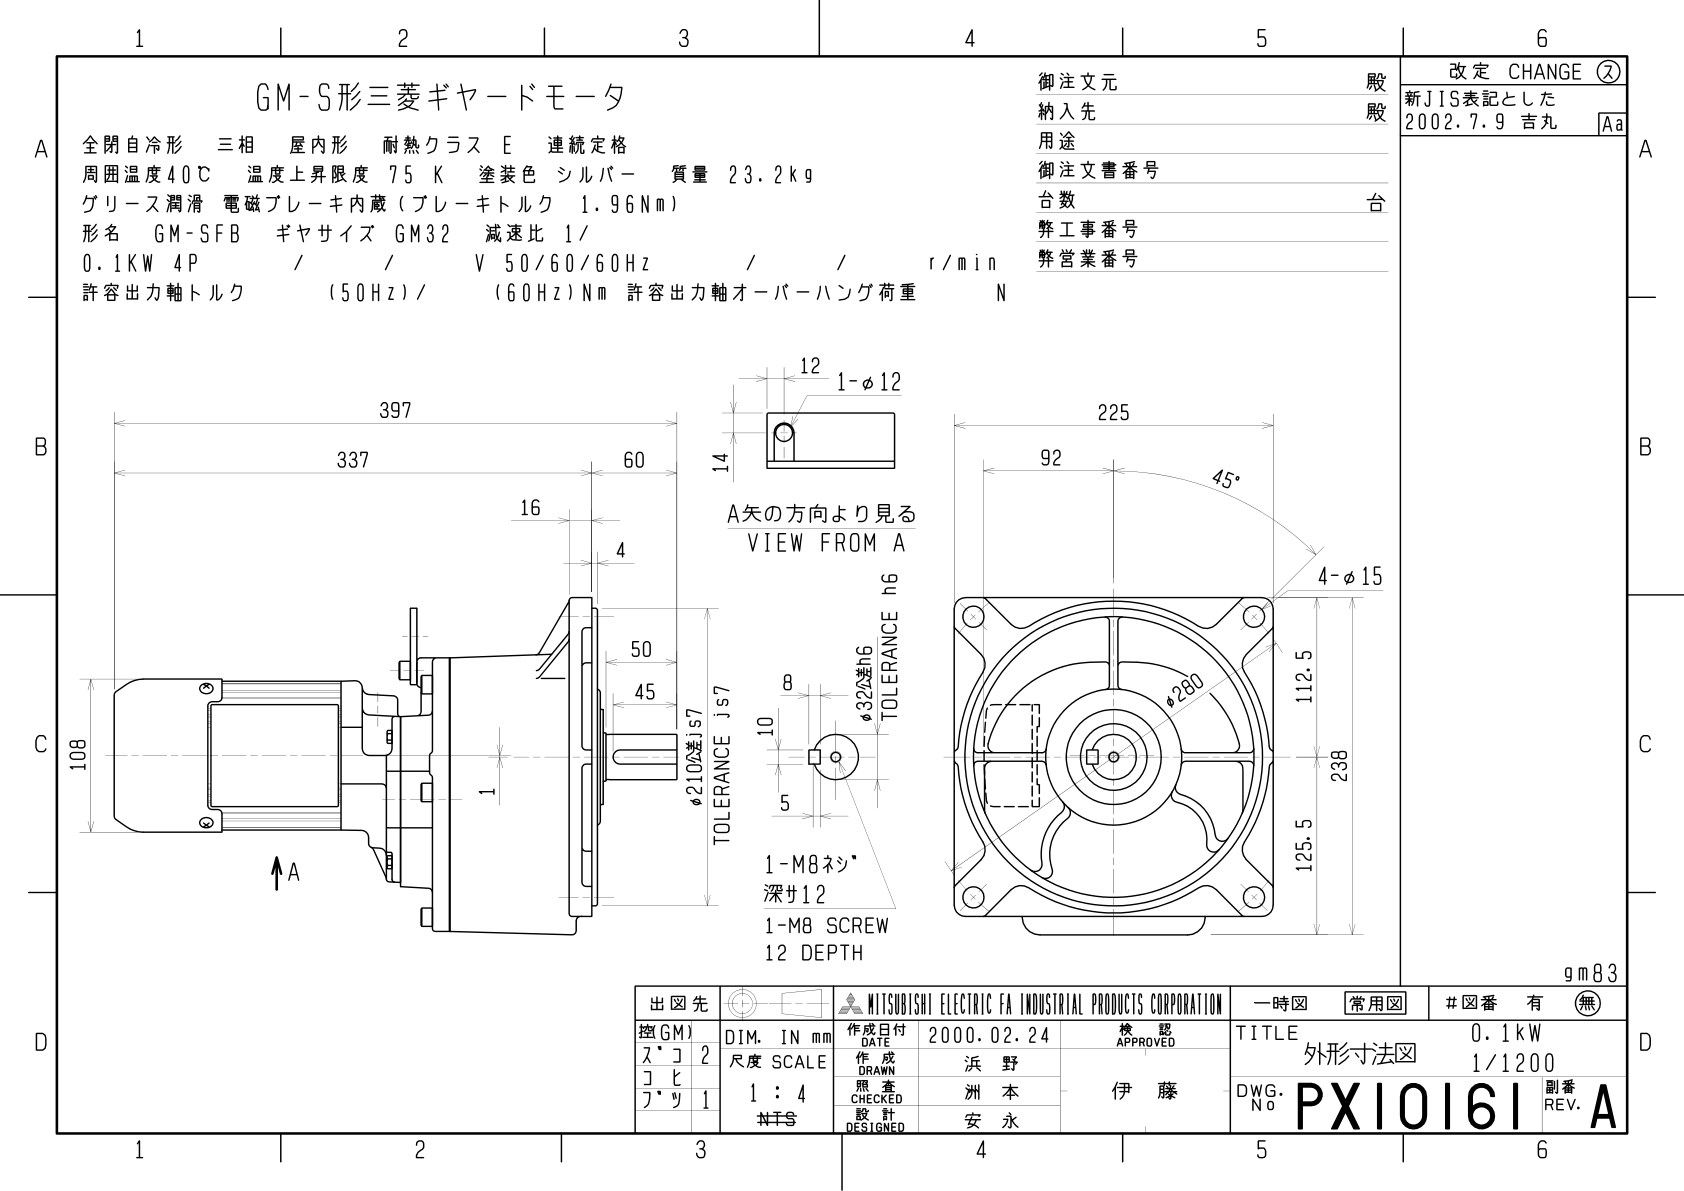GM_S_屋内＿三相_フランジ: (64, 335, 1392, 959)
